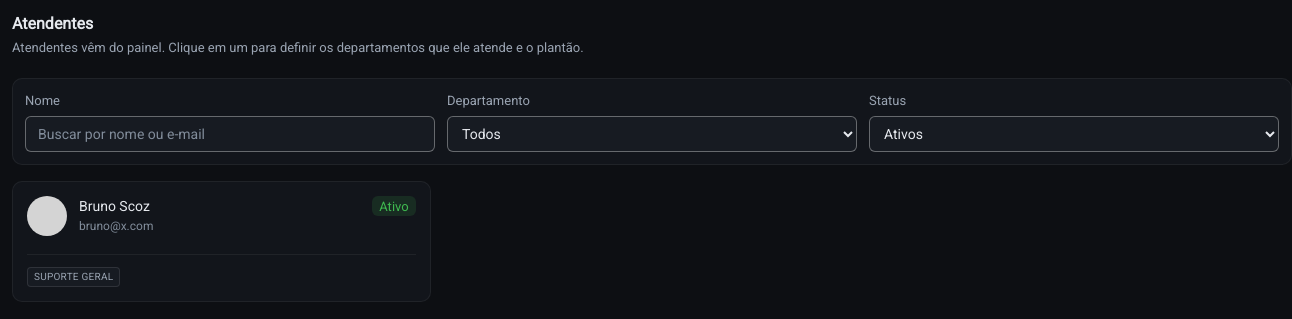
Scenario: Atendentes (cards) › filtro de status Inativos mostra o atendente inativo
The width and height of the screenshot is (1292, 319).
Select "Inativos" in the dropdown labelled "Status" at (1074, 134), box [869,116,1279,152]
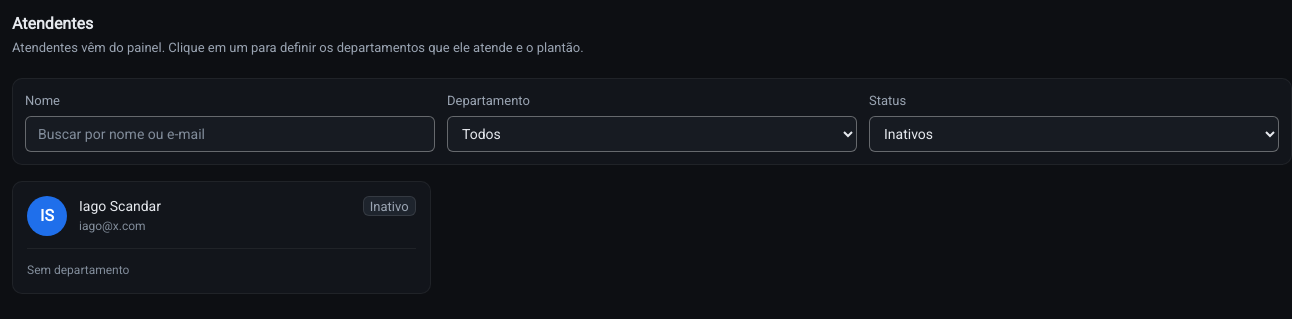
Now the text "Iago Scandar" is shown, box [79,198,161,214]
Now the button "Bruno Scoz" is gone
